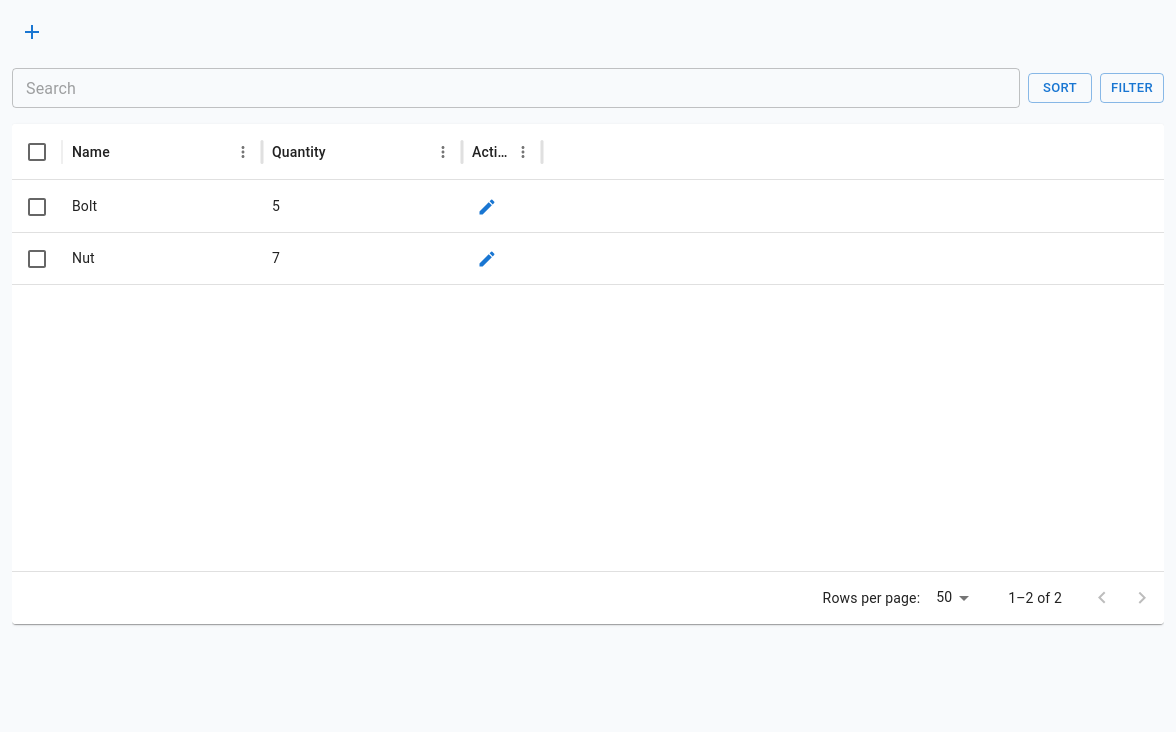
list header sort with the panel on a desktop viewport › sorts by the clicked column alone, replacing the panel sort
This screenshot has width=1176, height=732.
Click the button with test id "list-sort-toggle". click: (1060, 88)
box: [1028, 73, 1092, 103]
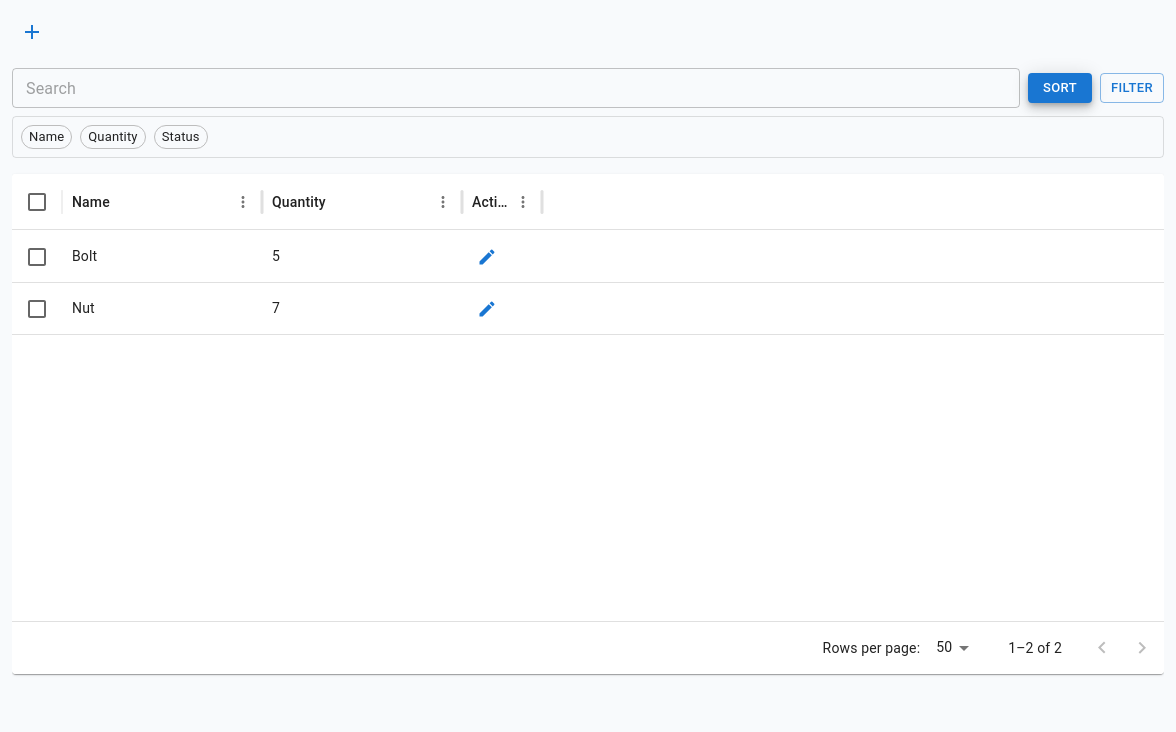
Click the button with test id "list-sort-status". click: (181, 137)
box: [154, 125, 208, 149]
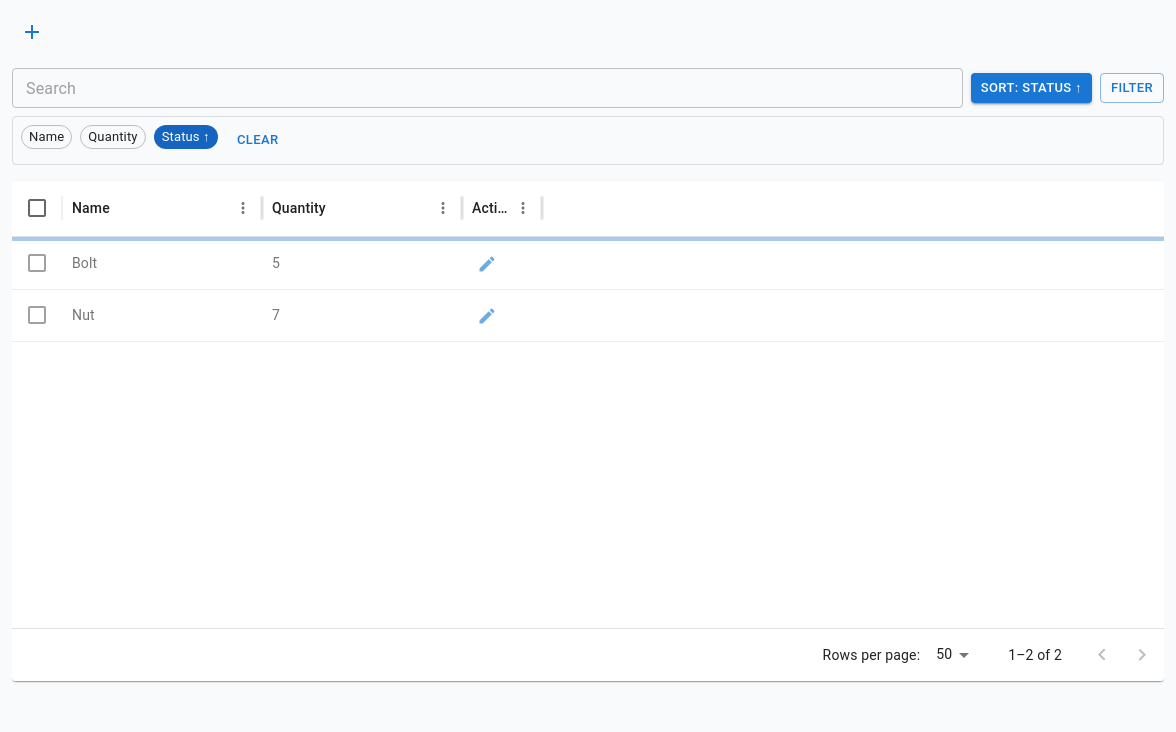
Click the button with test id "list-sort-qty". click: (113, 137)
box: [80, 125, 146, 149]
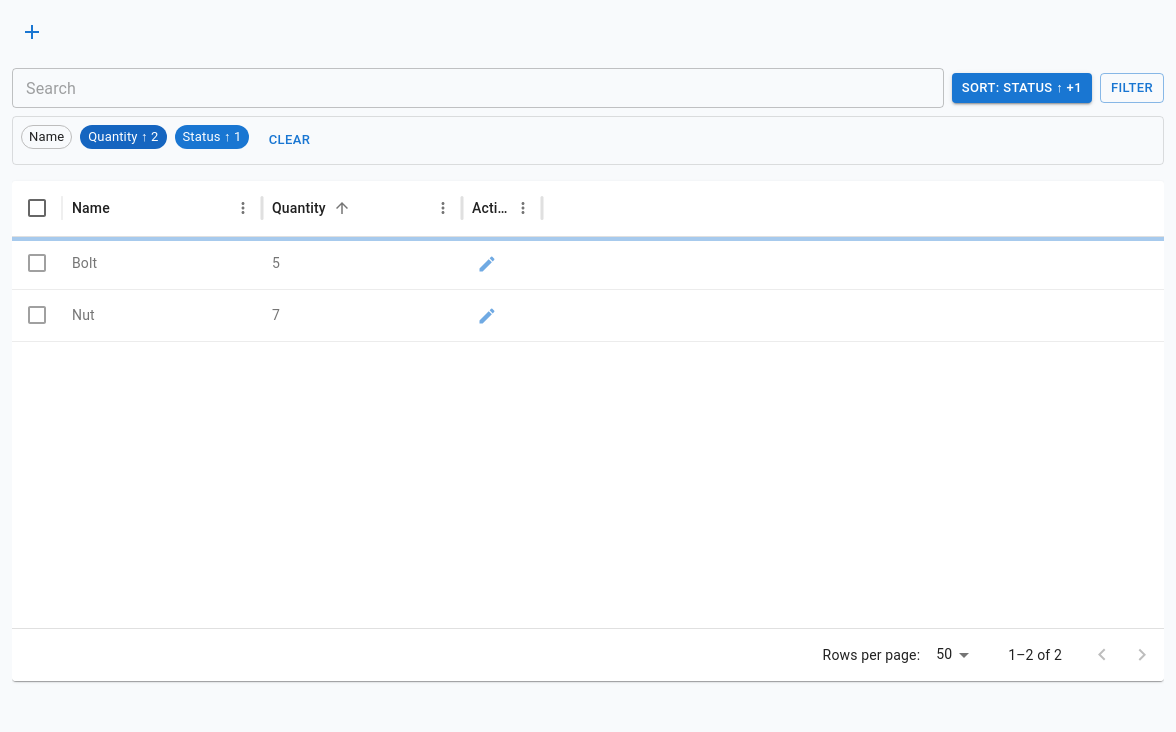
Click the column heading "Name". click: (162, 209)
box: [62, 181, 262, 237]
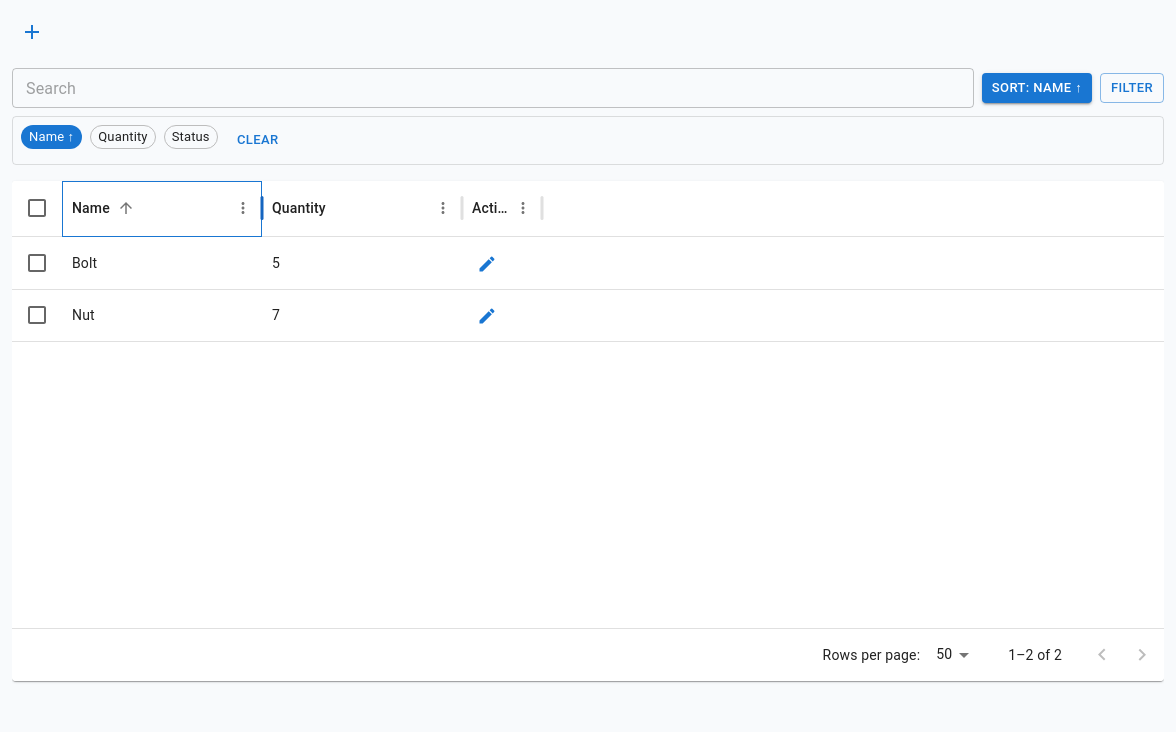
Check: the button with test id "list-sort-toggle" reads "Sort: Name ↑", box [982, 73, 1092, 103]
